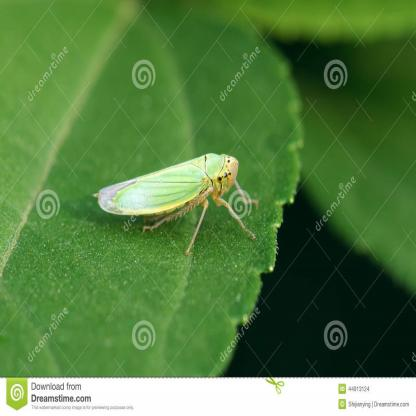Green-Leafhopper: (91, 151, 259, 255)
